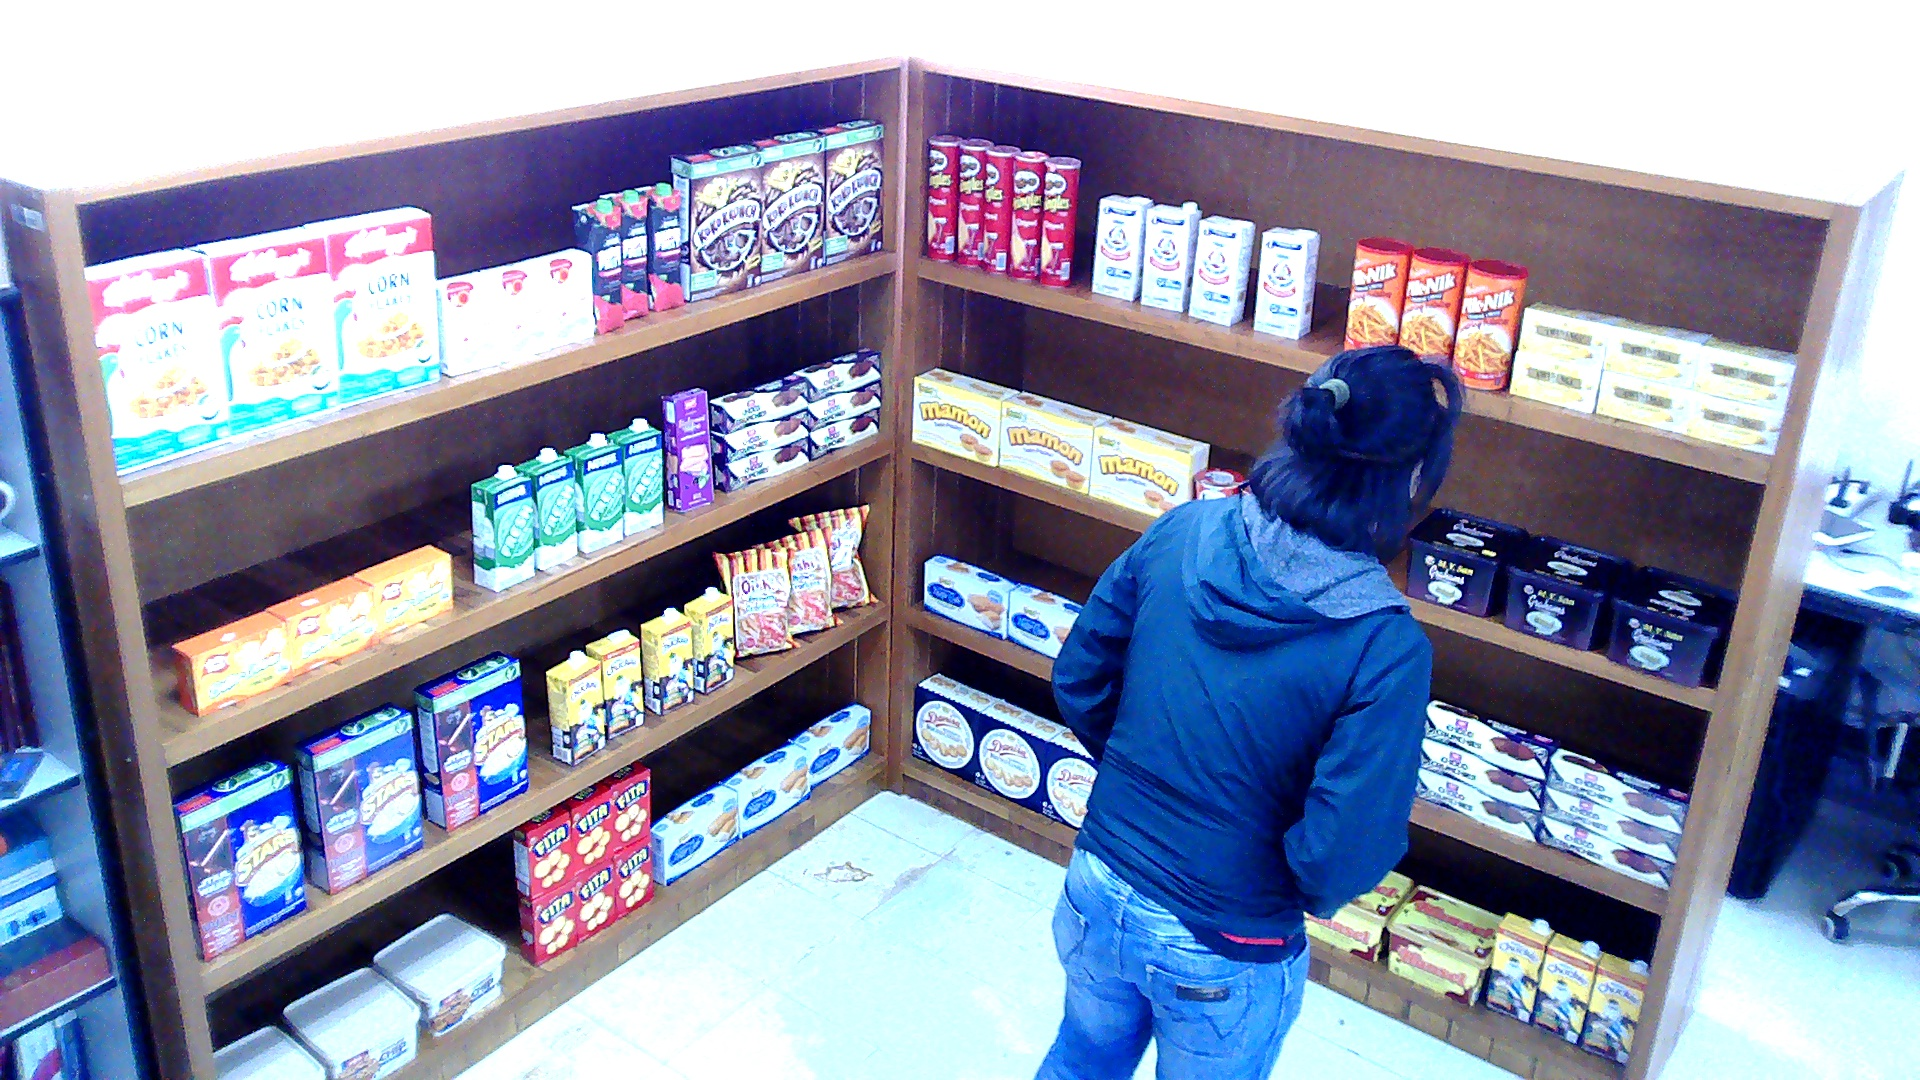Bear brand: (1254, 224, 1320, 337), (1188, 214, 1254, 324), (1140, 200, 1200, 310), (1092, 193, 1152, 299)
Buttercake: (716, 740, 809, 837), (651, 783, 738, 884), (924, 551, 1020, 639), (788, 700, 869, 790), (1008, 583, 1080, 657)
Butterlicious: (171, 610, 291, 716), (264, 576, 372, 675), (351, 544, 450, 641)
Camomille: (1604, 317, 1709, 387), (1695, 338, 1794, 412), (1518, 301, 1623, 369), (1596, 368, 1689, 431), (1686, 393, 1782, 454), (1509, 350, 1599, 411)
Choco Crunchies: (1545, 747, 1689, 835), (1422, 697, 1560, 780), (1539, 815, 1674, 891), (1542, 788, 1680, 862), (1415, 767, 1538, 841), (1419, 738, 1542, 810), (707, 373, 806, 432), (711, 437, 810, 493), (711, 410, 807, 464), (791, 347, 878, 403), (807, 380, 879, 432), (810, 407, 879, 459)
Chocolate Chips: (372, 913, 504, 1035), (282, 968, 420, 1078), (213, 1024, 324, 1078)
Chuckie: (1482, 910, 1554, 1023), (1530, 934, 1602, 1044), (1578, 951, 1647, 1066), (546, 650, 606, 765), (584, 628, 641, 738), (639, 608, 693, 716), (684, 585, 732, 695)
Danisa: (975, 699, 1065, 812), (912, 673, 1002, 783), (1041, 726, 1095, 827)
Fita: (513, 803, 573, 897), (516, 880, 576, 966), (561, 783, 615, 873), (600, 760, 648, 850), (572, 857, 617, 940), (615, 834, 654, 917)
Fresh Milk: (513, 447, 576, 569), (471, 463, 531, 589), (564, 432, 624, 551), (606, 418, 660, 535)
Grahams: (1608, 567, 1734, 684), (1502, 535, 1631, 648), (1403, 506, 1526, 614)
Hansel: (1386, 884, 1503, 1006), (1305, 871, 1413, 963)
Head: (1250, 344, 1463, 549)
Honey Stars: (171, 751, 306, 958), (291, 699, 423, 893), (410, 648, 527, 830)
Kellogg Corn Flakes: (83, 247, 230, 477), (186, 227, 339, 441), (303, 207, 438, 407)
Kimchi Noodles: (1194, 468, 1242, 500)
Koko Krunch: (668, 142, 761, 302), (741, 126, 825, 281), (807, 117, 882, 263)
Mamon: (1089, 416, 1209, 515), (999, 391, 1110, 492), (912, 368, 1017, 465)
Oishi Prawn: (750, 526, 843, 634), (786, 502, 879, 608), (711, 549, 801, 657)
Pik-nik: (1451, 257, 1526, 387), (1398, 245, 1470, 369), (1344, 235, 1410, 348)
Pringles: (1041, 156, 1080, 286), (984, 144, 1020, 272), (957, 137, 993, 265), (1011, 151, 1047, 279), (926, 133, 959, 261)
Super Fruits: (569, 197, 620, 332), (633, 180, 684, 310), (600, 189, 648, 317)
Wafer: (659, 387, 710, 511)
iHop: (522, 247, 591, 348), (435, 272, 501, 375), (480, 260, 549, 359)
